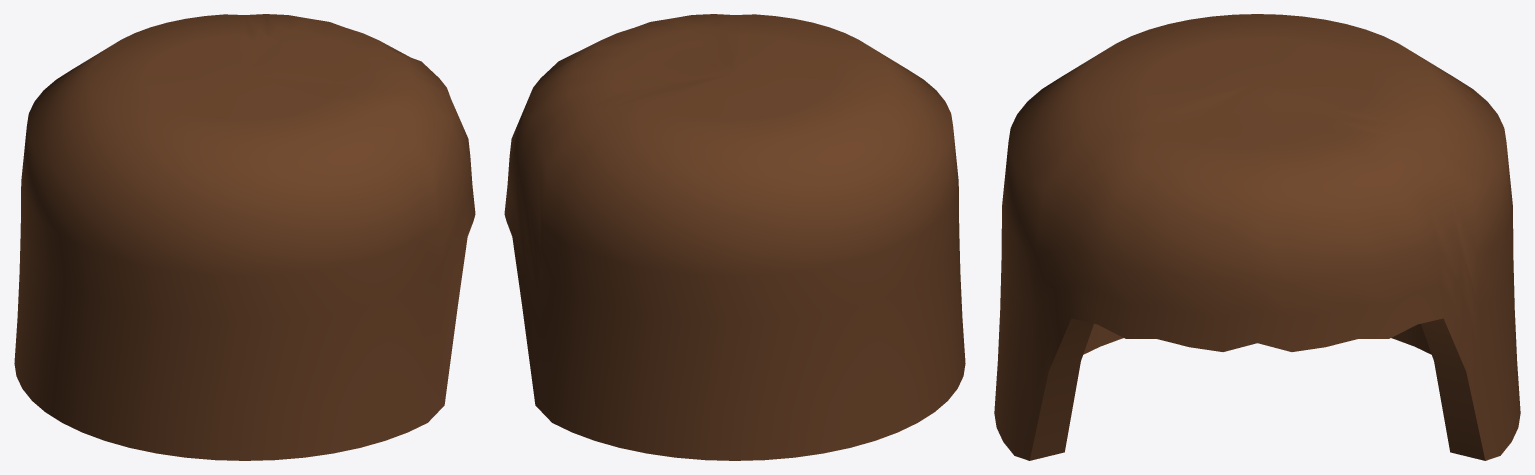
The model's file is acc_hair_bob.glb.
The picture shows the model from 3 angles, left to right: view 1: azimuth 30°, elevation 25°; view 2: azimuth 150°, elevation 25°; view 3: azimuth 270°, elevation 25°; orthographic projection. The views are drawn at different scales.
Parts seen in each view (by area): view 1: Hair; view 2: Hair; view 3: Hair.
Boxes of the visible parts, box(x1,y1,x2,y2) form: Hair: box(14, 14, 475, 460); Hair: box(504, 14, 965, 460); Hair: box(994, 14, 1520, 460).
Bounding box in the file's own units: 0.518 × 0.3594 × 0.518.
